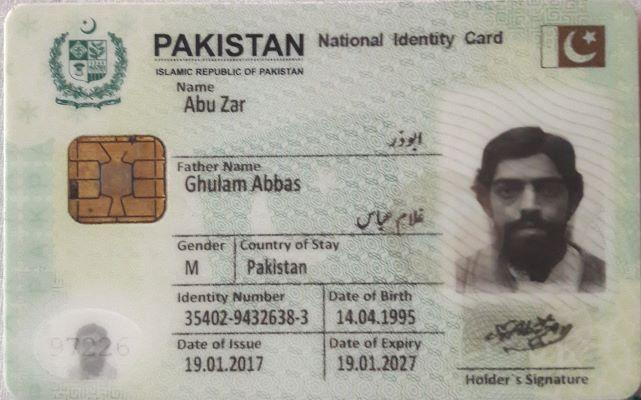fname: (181, 172, 304, 196)
name: (179, 92, 250, 116)
number: (180, 306, 313, 330)
